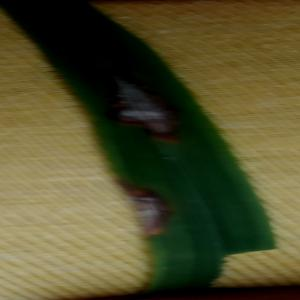1 RiceBlast: (99, 56, 191, 152), (109, 177, 181, 242), (60, 14, 115, 56)
